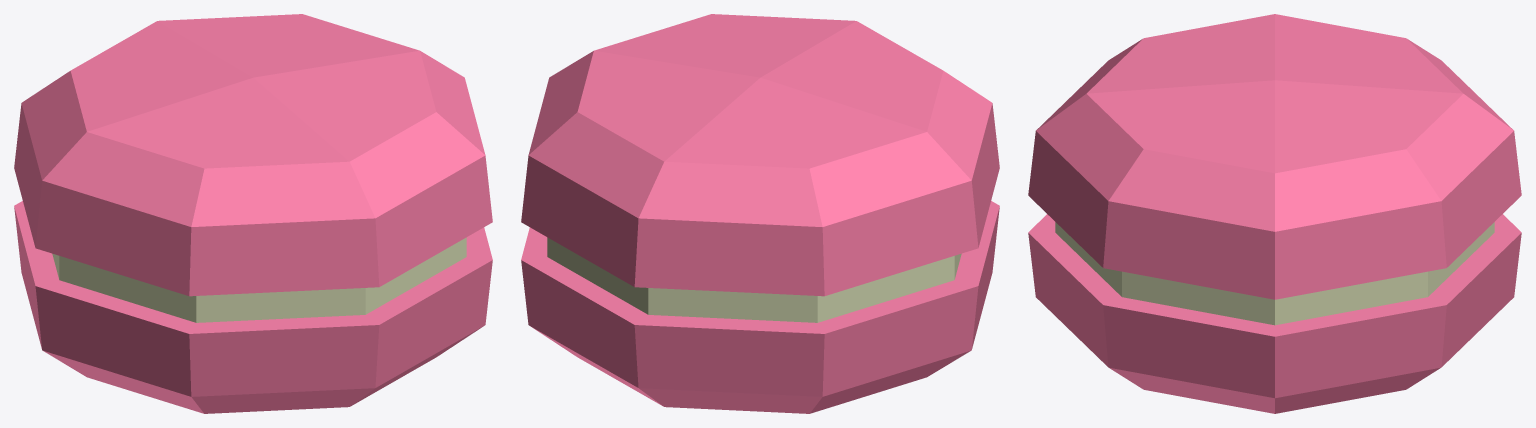
Rendered from macaron_pn.fbx.
3 renders of one model, left to right at view 1: azimuth 30°, elevation 25°; view 2: azimuth 150°, elevation 25°; view 3: azimuth 270°, elevation 25°, orthographic.
Visible parts, largest first — view 1: macaron_pn; view 2: macaron_pn; view 3: macaron_pn.
Boxes of the visible parts, bbox=[...] form: macaron_pn: bbox=[14, 14, 492, 413]; macaron_pn: bbox=[521, 14, 999, 413]; macaron_pn: bbox=[1028, 14, 1521, 413].
Size of the model in its own units: 92.32 by 55.18 by 92.32.
